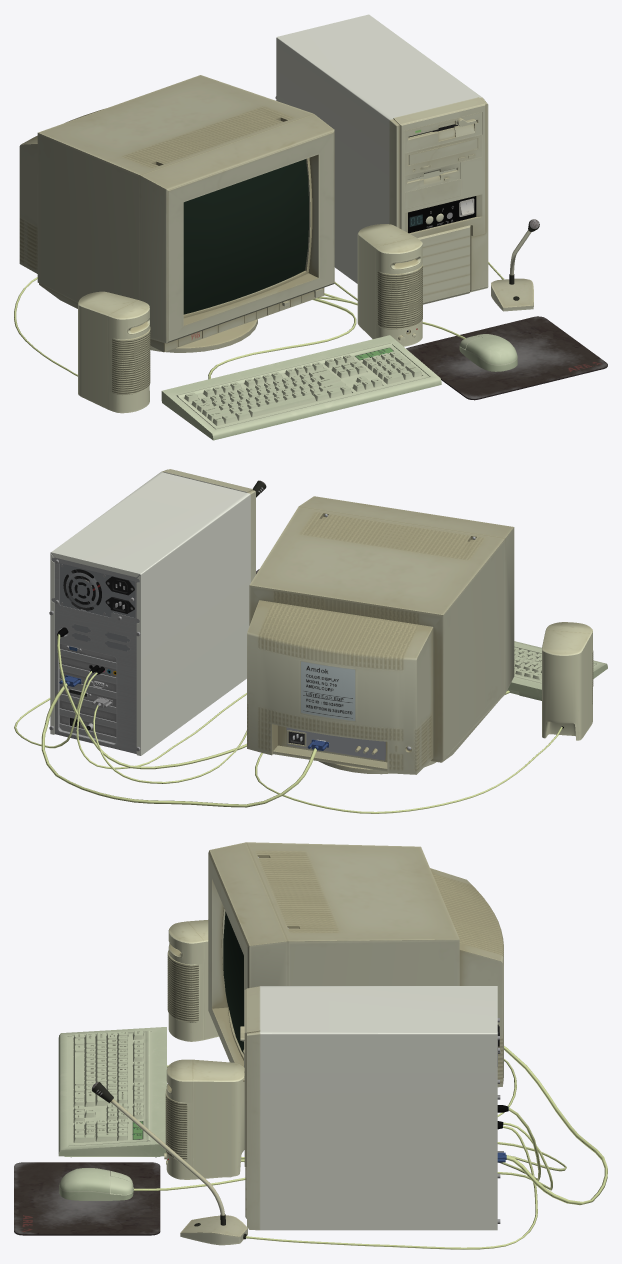
Rendered from ST_Old_PC_02_all.FBX.
3 views of the same model, one above another, from view 1: azimuth 30°, elevation 25°; view 2: azimuth 150°, elevation 25°; view 3: azimuth 270°, elevation 25° (orthographic). The views are drawn at different scales.
Visible parts, largest first — view 1: Old_PC_02; view 2: Old_PC_02; view 3: Old_PC_02.
Part boxes in pixels (x1,y1,x2,y2): Old_PC_02: [14, 14, 607, 440]; Old_PC_02: [14, 469, 607, 813]; Old_PC_02: [14, 842, 607, 1249].
Size of the model in its own units: 85.77 by 35.81 by 91.71.
